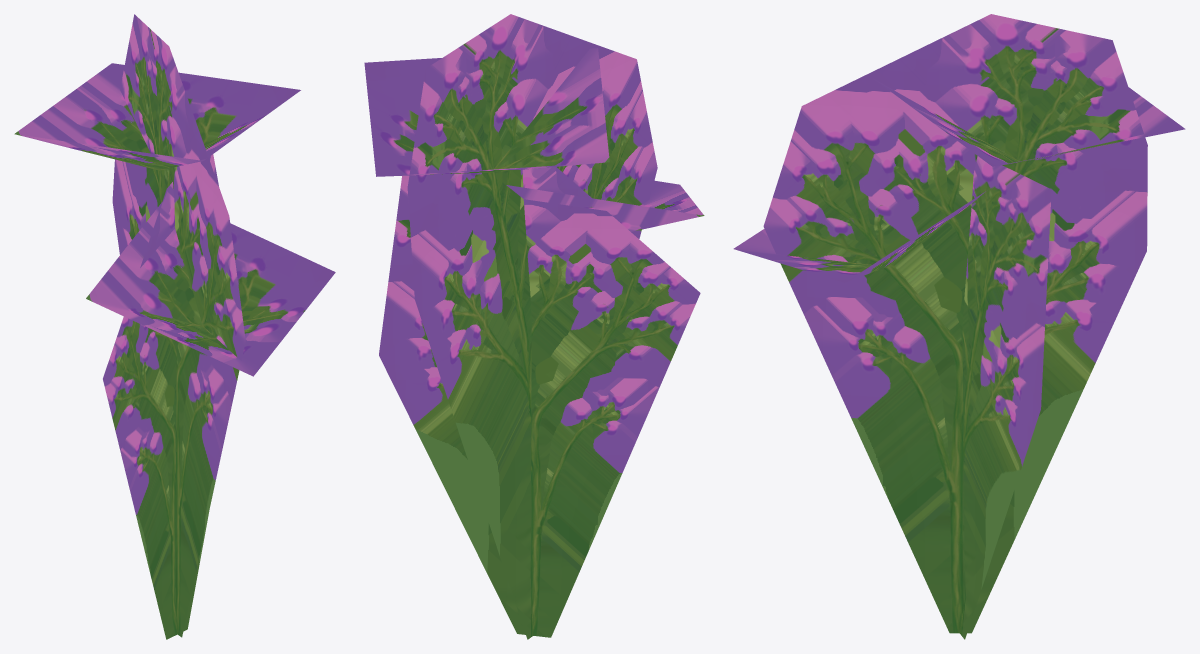
The model's file is SM_Flower_10_01.fbx.
3 views of the same model, side by side, from view 1: azimuth 30°, elevation 25°; view 2: azimuth 150°, elevation 25°; view 3: azimuth 270°, elevation 25° (orthographic). The views are drawn at different scales.
Parts seen in each view (by area): view 1: SM_Flower_10_01_LOD0; view 2: SM_Flower_10_01_LOD0; view 3: SM_Flower_10_01_LOD0.
Boxes of the visible parts, x1,y1,x2,y2 form: SM_Flower_10_01_LOD0: (14, 14, 335, 639); SM_Flower_10_01_LOD0: (364, 14, 704, 639); SM_Flower_10_01_LOD0: (733, 14, 1185, 639).
Size of what is drawn, in the model's own units: 45.2 by 94.68 by 62.32.
